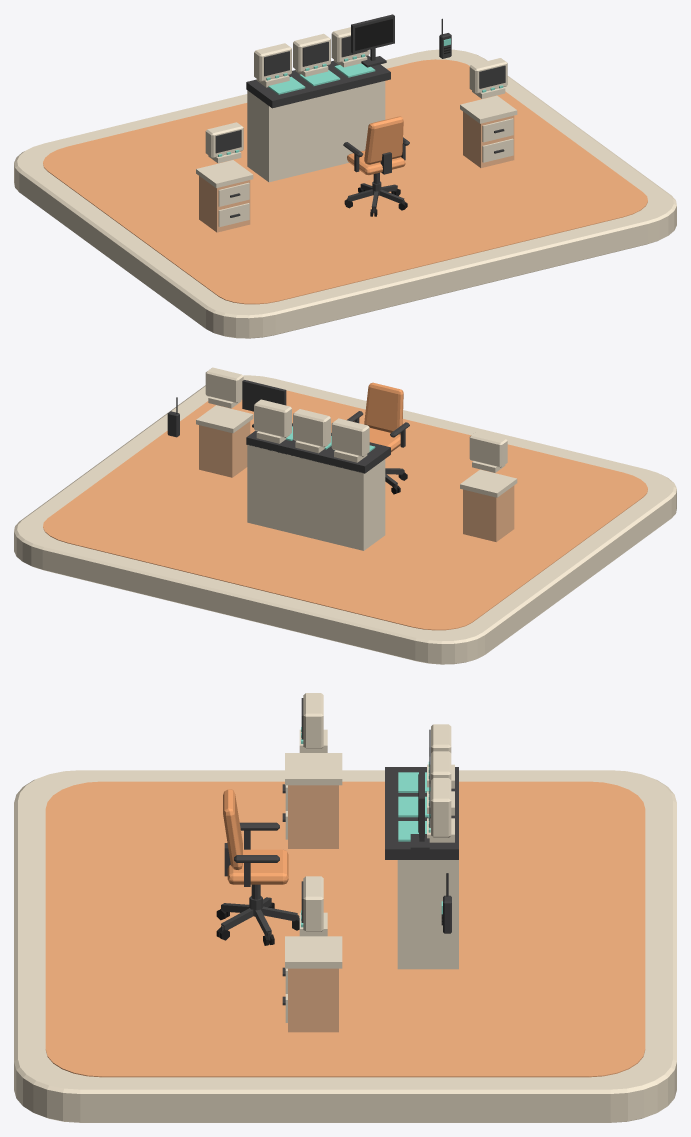
The model's file is room.fbx.
3 views of the same model, one above another, from view 1: azimuth 30°, elevation 25°; view 2: azimuth 150°, elevation 25°; view 3: azimuth 270°, elevation 25° (orthographic). The views are drawn at different scales.
Parts seen in each view (by area): view 1: COM-02 Floor Surface, COM-01 Rounded Base Direct, Console, COM-04_Chair_blender_direct, Panel, Frame, Body, Body.001, Top.001, Top, Housing, Housing.001 (+9 smaller); view 2: COM-02 Floor Surface, COM-01 Rounded Base Direct, Console, COM-04_Chair_blender_direct, Body, Body.001, Panel, Housing, Housing.001, Housing.002, Housing.003, Housing.004 (+3 smaller); view 3: COM-02 Floor Surface, COM-01 Rounded Base Direct, Console, COM-04_Chair_blender_direct, Body.001, Body, Panel, Top.001, Top, Housing.002, Housing.004, Housing.003 (+1 smaller).
Boxes of the visible parts, box(x1,y1,x2,y2) form: COM-02 Floor Surface: box(43, 59, 647, 304); COM-01 Rounded Base Direct: box(14, 49, 676, 338); Console: box(247, 81, 385, 182); COM-04_Chair_blender_direct: box(343, 116, 409, 216); Panel: box(246, 55, 390, 108); Frame: box(351, 14, 394, 67); Body: box(199, 176, 250, 232); Body.001: box(463, 111, 514, 167); Top.001: box(460, 95, 517, 123); Top: box(196, 160, 253, 188); Housing: box(254, 43, 291, 81); Housing.001: box(293, 33, 330, 72); COM-02 Floor Surface: box(43, 390, 647, 630); COM-01 Rounded Base Direct: box(14, 375, 676, 664); Console: box(247, 445, 385, 550); COM-04_Chair_blender_direct: box(347, 382, 409, 494); Body: box(463, 485, 514, 541); Body.001: box(199, 421, 250, 477); Panel: box(246, 423, 390, 473); Housing: box(331, 418, 369, 456); Housing.001: box(293, 409, 330, 447); Housing.002: box(254, 399, 291, 437); Housing.003: box(469, 432, 507, 467); Housing.004: box(205, 367, 243, 403); COM-02 Floor Surface: box(45, 781, 645, 1077); COM-01 Rounded Base Direct: box(14, 770, 676, 1122); Console: box(397, 860, 458, 969); COM-04_Chair_blender_direct: box(216, 789, 299, 945); Body.001: box(288, 968, 338, 1032); Body: box(288, 785, 338, 848); Panel: box(385, 767, 458, 859); Top.001: box(285, 936, 342, 968); Top: box(285, 753, 342, 785); Housing.002: box(431, 778, 451, 837); Housing.004: box(303, 876, 323, 931); Housing.003: box(303, 693, 323, 748).
Bounding box in the file's own units: 600 × 188 × 520.
